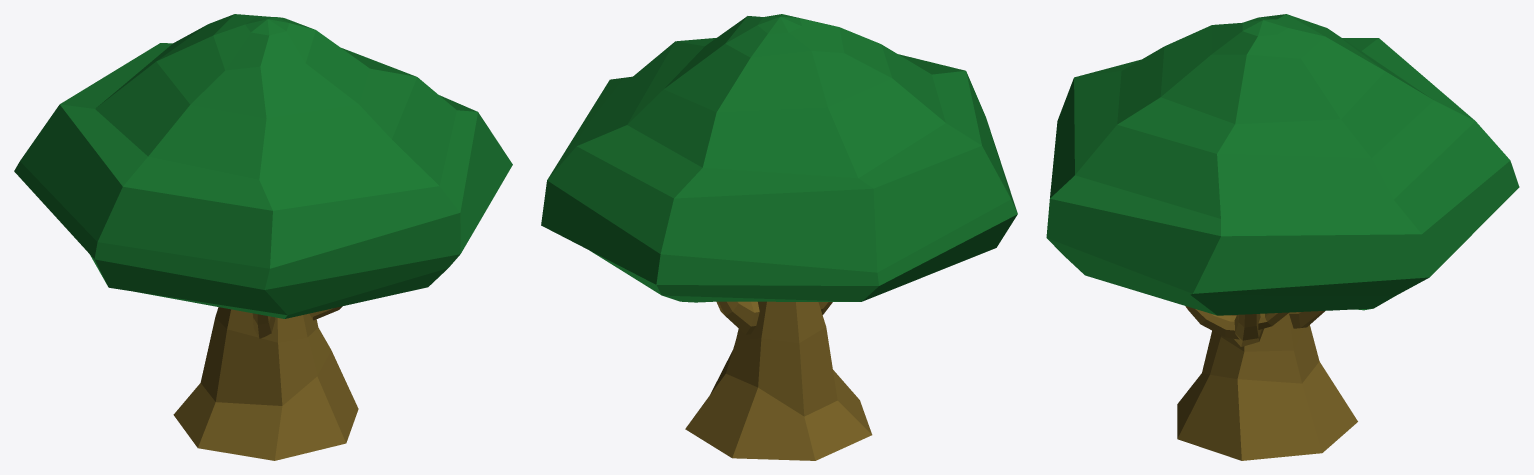
File: wide-canopy.glb
3 renders of one model, left to right at view 1: azimuth 30°, elevation 25°; view 2: azimuth 150°, elevation 25°; view 3: azimuth 270°, elevation 25°, orthographic.
Visible parts, largest first — view 1: model; view 2: model; view 3: model.
Boxes of the visible parts, <box> form: model: <box>14,14,512,460</box>; model: <box>541,14,1017,460</box>; model: <box>1046,14,1519,460</box>.
Bounding box in the file's own units: 1253 × 1161 × 1240.
